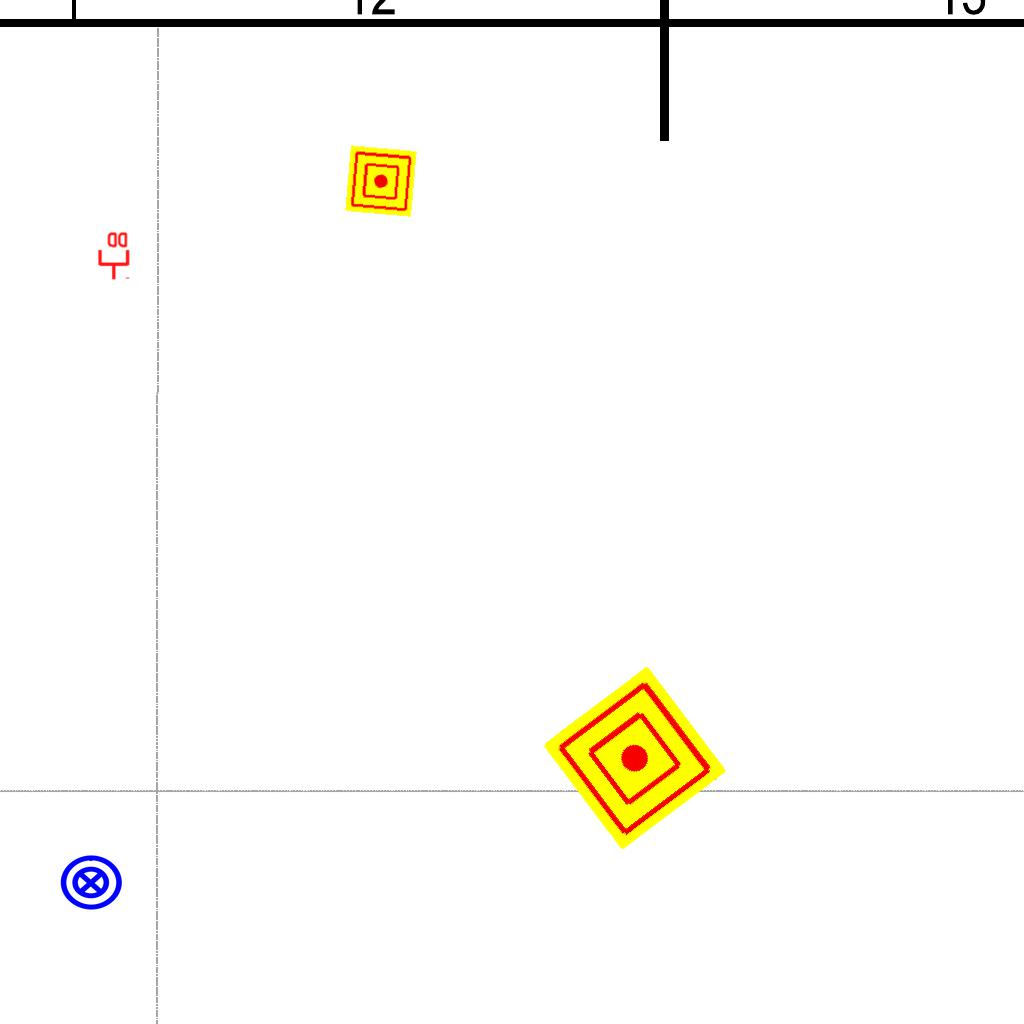Datenanschluss_zweifach: (96, 230, 130, 281)
NAM-Nichtautomatischer_Melder: (542, 665, 728, 851), (345, 145, 417, 217)
Taster_beleuchtet: (58, 850, 124, 916)
